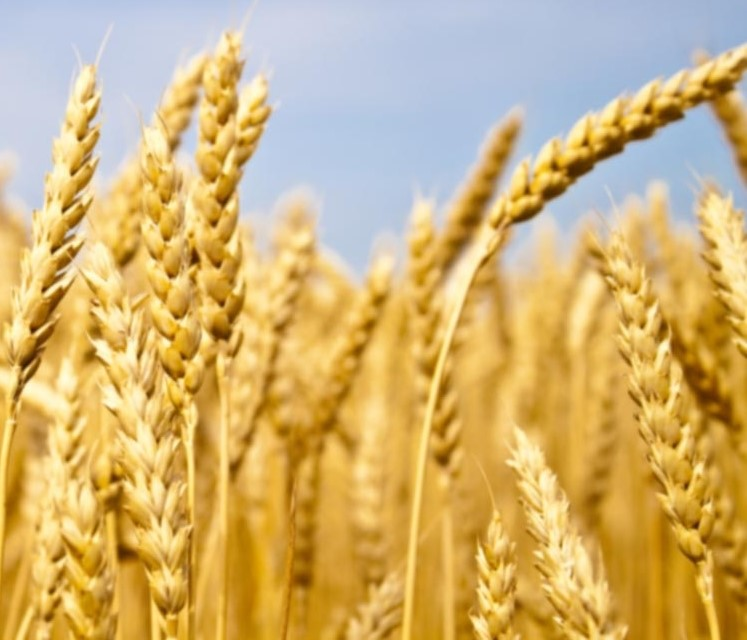Healthy Wheat: (590, 226, 733, 547), (4, 55, 114, 374), (137, 129, 209, 392)
